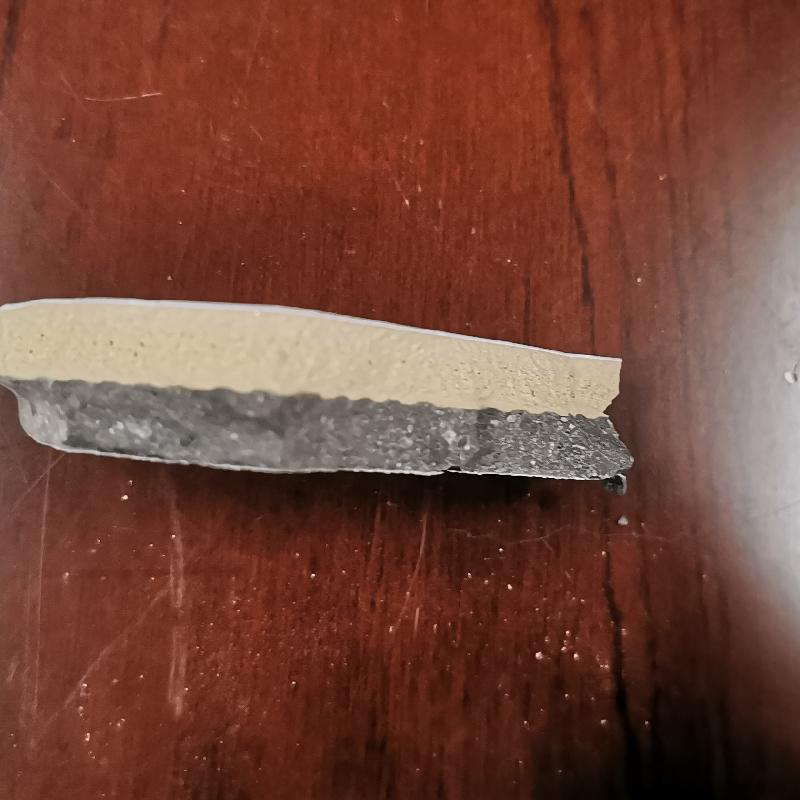tile: (6, 289, 643, 490)
